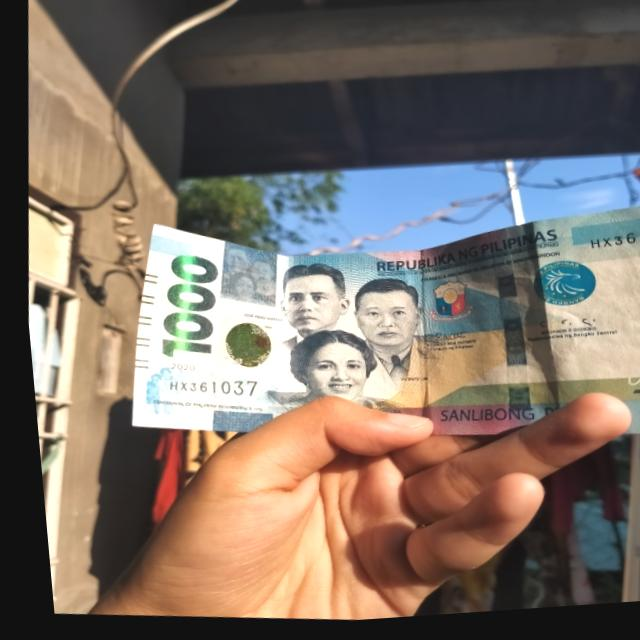concealed_value: (212, 245, 270, 309)
optically_variable_device: (208, 316, 271, 378)
security_thread: (479, 235, 522, 436)
see_through_mark: (609, 367, 640, 398)
serial_number: (159, 371, 252, 402)
value: (148, 246, 217, 364)
